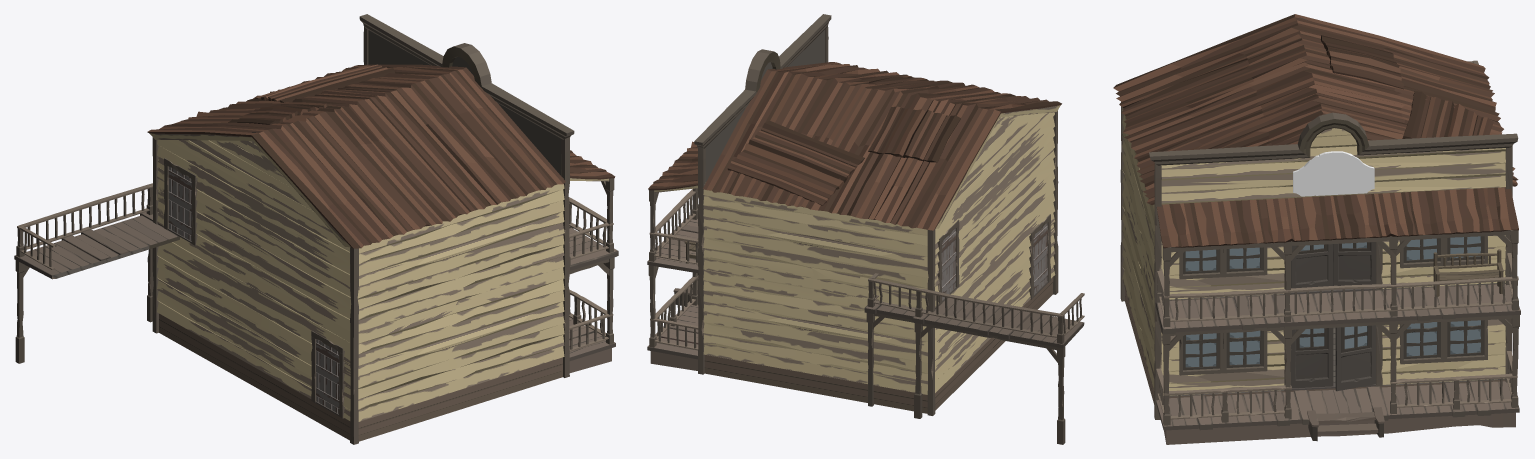
File: Hotel.glb
3 views of the same model, side by side, from view 1: azimuth 30°, elevation 25°; view 2: azimuth 150°, elevation 25°; view 3: azimuth 270°, elevation 25° (orthographic). The views are drawn at different scales.
Parts seen in each view (by area): view 1: Hotel, SM_Bld_Double_Roof_01, SM_Bld_Double_Balcony_Stairs_01, SM_Bld_Double_Facade_02, SM_Bld_Double_Balcony_01, SM_Bld_Double_Deck_01, SM_Bld_Roof_Patch_01, SM_Bld_Large_BackDoor_02, SM_Bld_Large_BackDoor_01, SM_Bld_Roof_Patch_01__1_, SM_Bld_Double_DeckCover_01; view 2: Hotel, SM_Bld_Double_Roof_01, SM_Bld_Double_Balcony_Stairs_01, SM_Bld_Roof_Patch_01, SM_Bld_Double_Facade_02, SM_Bld_Roof_Patch_01__1_, SM_Bld_Double_Deck_01, SM_Bld_Double_Balcony_01, SM_Bld_Double_DeckCover_01, SM_Bld_Large_BackDoor_02, SM_Bld_Large_BackDoor_01; view 3: SM_Bld_Double_Roof_01, SM_Bld_Double_DeckCover_01, SM_Bld_Double_Facade_02, SM_Bld_Double_Balcony_01, SM_Bld_Double_Deck_01, SM_Bld_Double_Front_01, Hotel, SM_Bld_Double_Front_01__1_, SM_Bld_Double_Front_Window_01_1, SM_Bld_Sign_02, SM_Bld_Roof_Patch_01, SM_Bld_Roof_Patch_01__1_ (+8 smaller).
Part boxes in pixels (x1=…): Hotel: x1=152, y1=39, x2=569, y2=444; SM_Bld_Double_Roof_01: x1=147, y1=64, x2=565, y2=248; SM_Bld_Double_Balcony_Stairs_01: x1=14, y1=183, x2=180, y2=363; SM_Bld_Double_Facade_02: x1=359, y1=14, x2=574, y2=175; SM_Bld_Double_Balcony_01: x1=569, y1=197, x2=618, y2=314; SM_Bld_Double_Deck_01: x1=569, y1=289, x2=615, y2=372; SM_Bld_Roof_Patch_01: x1=254, y1=64, x2=394, y2=102; SM_Bld_Large_BackDoor_02: x1=316, y1=339, x2=339, y2=413; SM_Bld_Large_BackDoor_01: x1=168, y1=166, x2=192, y2=240; SM_Bld_Roof_Patch_01__1_: x1=228, y1=102, x2=331, y2=124; SM_Bld_Double_DeckCover_01: x1=570, y1=150, x2=615, y2=223; Hotel: x1=698, y1=37, x2=1058, y2=415; SM_Bld_Double_Roof_01: x1=703, y1=62, x2=1061, y2=230; SM_Bld_Double_Balcony_Stairs_01: x1=864, y1=273, x2=1084, y2=444; SM_Bld_Roof_Patch_01: x1=727, y1=120, x2=864, y2=205; SM_Bld_Double_Facade_02: x1=694, y1=14, x2=831, y2=181; SM_Bld_Roof_Patch_01__1_: x1=868, y1=106, x2=960, y2=162; SM_Bld_Double_Deck_01: x1=647, y1=275, x2=698, y2=370; SM_Bld_Double_Balcony_01: x1=647, y1=189, x2=698, y2=319; SM_Bld_Double_DeckCover_01: x1=648, y1=141, x2=697, y2=233; SM_Bld_Large_BackDoor_02: x1=1033, y1=223, x2=1047, y2=293; SM_Bld_Large_BackDoor_01: x1=941, y1=228, x2=956, y2=299; SM_Bld_Double_Roof_01: x1=1113, y1=14, x2=1518, y2=205; SM_Bld_Double_DeckCover_01: x1=1156, y1=187, x2=1518, y2=296; SM_Bld_Double_Facade_02: x1=1149, y1=112, x2=1518, y2=204; SM_Bld_Double_Balcony_01: x1=1155, y1=253, x2=1520, y2=393; SM_Bld_Double_Deck_01: x1=1156, y1=351, x2=1519, y2=444; SM_Bld_Double_Front_01: x1=1161, y1=319, x2=1505, y2=395; Hotel: x1=1120, y1=101, x2=1512, y2=419; SM_Bld_Double_Front_01__1_: x1=1161, y1=235, x2=1505, y2=299; SM_Bld_Double_Front_Window_01_1: x1=1185, y1=320, x2=1480, y2=367; SM_Bld_Sign_02: x1=1293, y1=151, x2=1374, y2=196; SM_Bld_Roof_Patch_01: x1=1402, y1=91, x2=1493, y2=138; SM_Bld_Roof_Patch_01__1_: x1=1321, y1=35, x2=1403, y2=89.
Bounding box in the file's own units: 16.22 × 9.2 × 11.54.
Materials: 8 (6 with a texture image).
